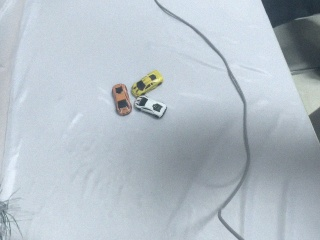toy_car: (112, 70, 166, 118), (131, 70, 163, 97), (135, 96, 167, 118), (112, 84, 132, 116)
